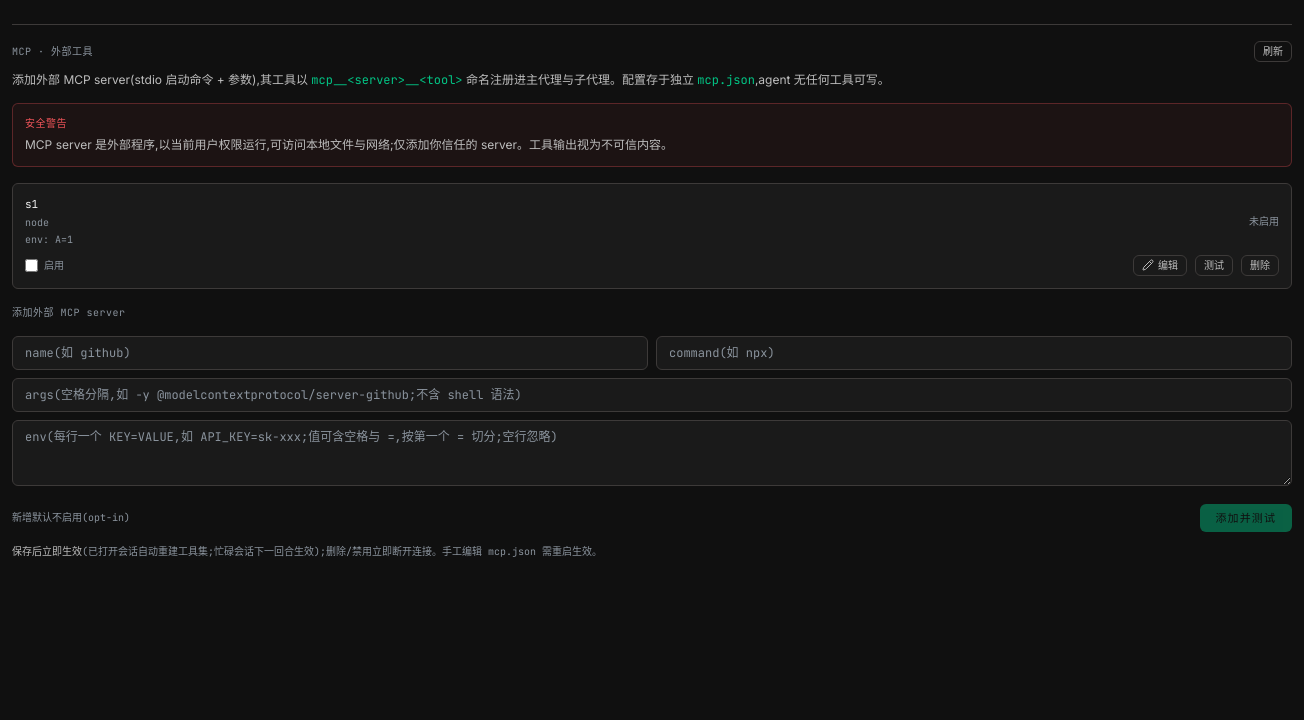
Test: McpPanel 编辑已有 server › 取消编辑:表单清空、退出编辑态、无 saved 残留
This screenshot has width=1304, height=720.
Click the button with test id "edit-s1" at (1160, 265), box x1=1133 y1=254 x2=1187 y2=276
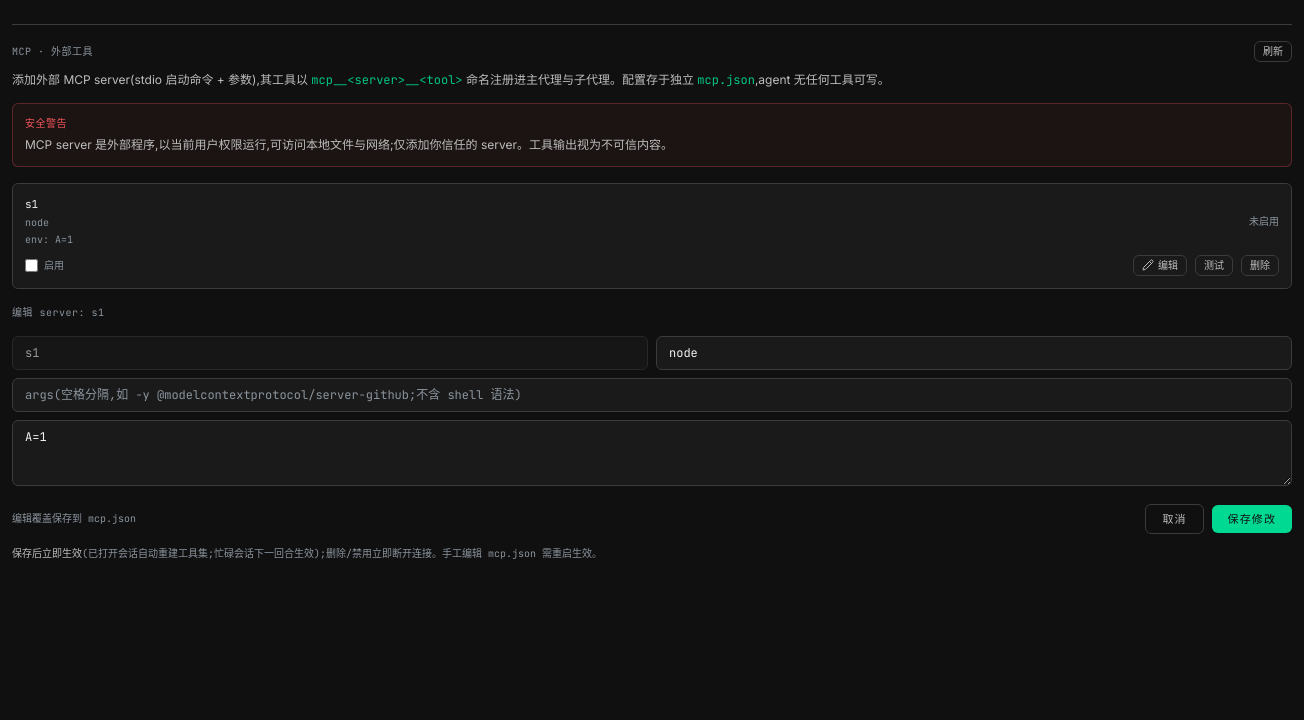
Replace the text in the text box with "X=1" at (652, 452), box x1=12 y1=420 x2=1292 y2=486
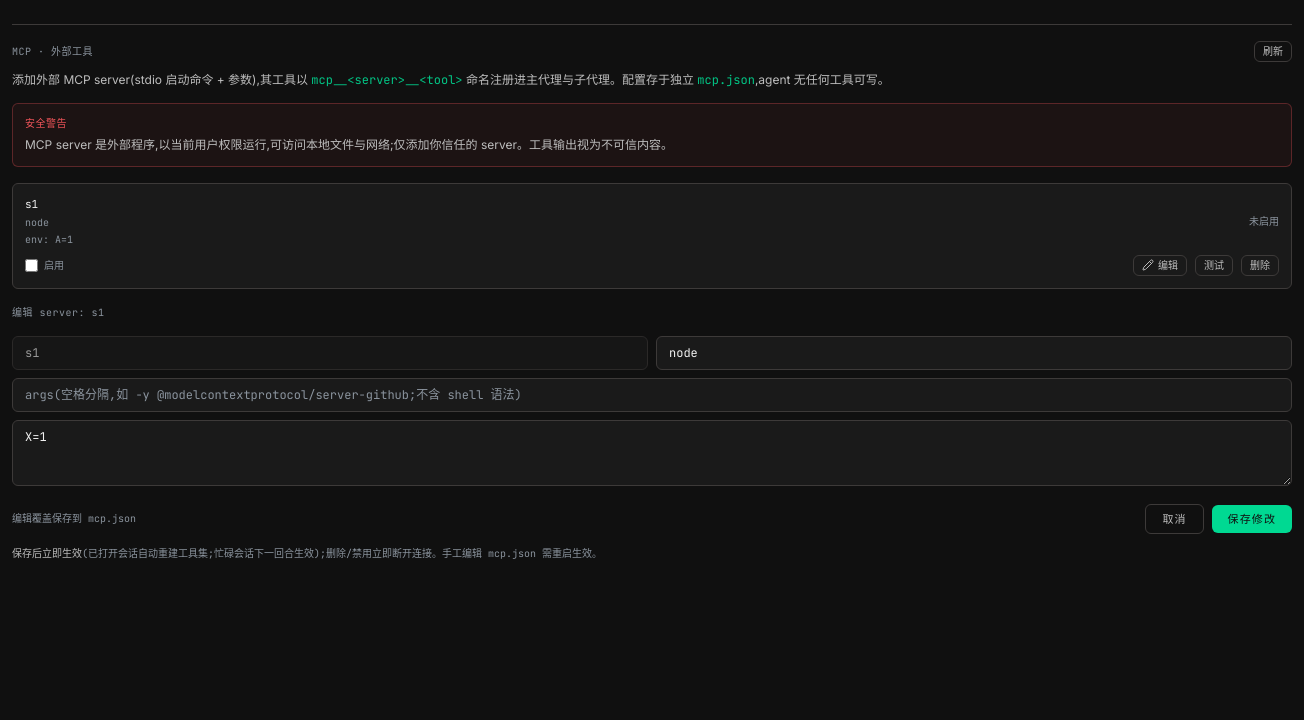
Click the button with test id "cancel-edit" at (1174, 519), box x1=1145 y1=504 x2=1204 y2=534
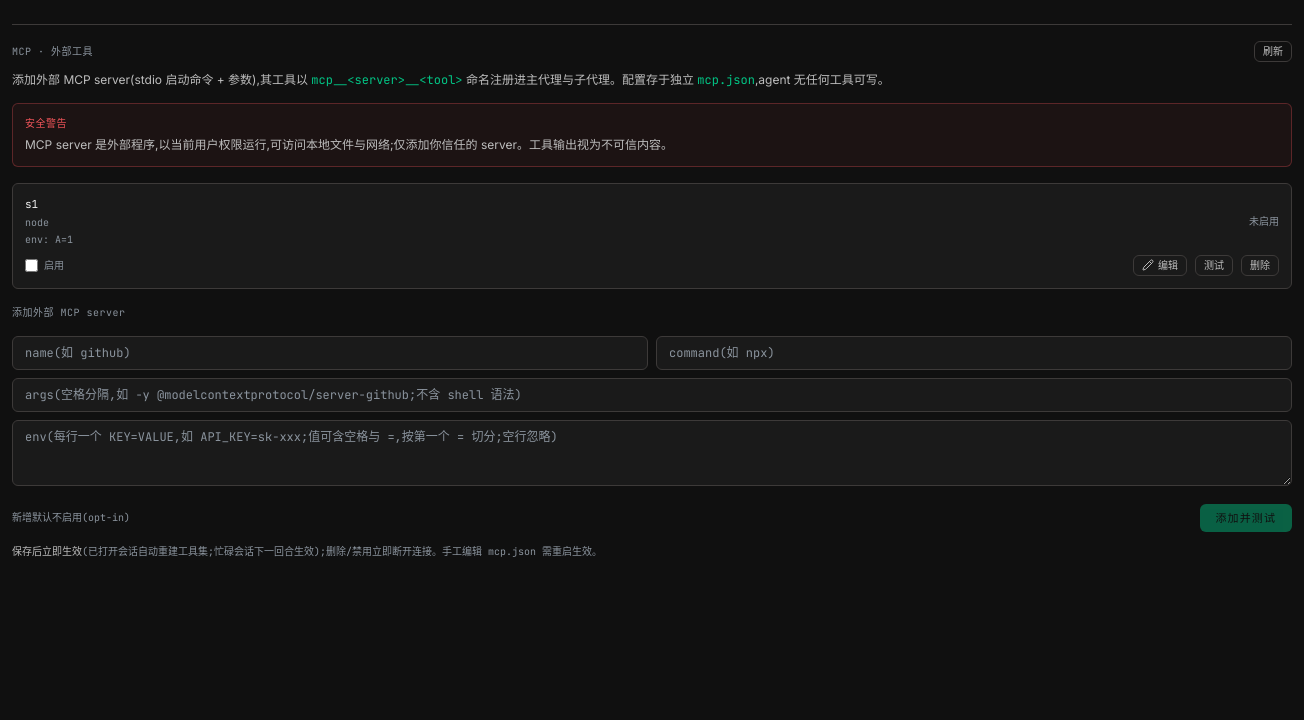
Check: the field with placeholder "name(如 github)" is empty, box x1=12 y1=336 x2=648 y2=370
Check: the field with placeholder "command(如 npx)" is empty, box x1=656 y1=336 x2=1292 y2=370
Check: the text box with placeholder "env(每行一个 KEY=VALUE,如 API_KEY=sk-xxx;值可含空格与 =,按第一个 = 切分;空行忽略)" is empty, box x1=12 y1=420 x2=1292 y2=486
